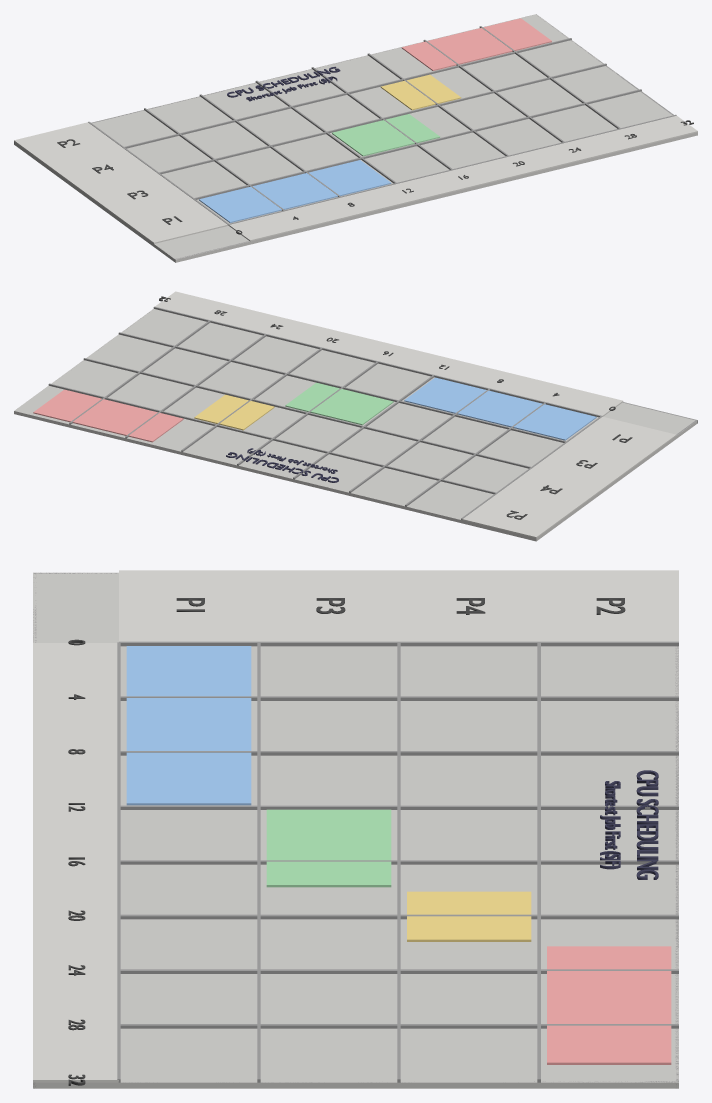
Rendered from Prop_GanttChart.fbx.
3 views of the same model, one above another, from view 1: azimuth 30°, elevation 25°; view 2: azimuth 150°, elevation 25°; view 3: azimuth 270°, elevation 25° (orthographic). The views are drawn at different scales.
Visible parts, largest first — view 1: Prop_GanttChart; view 2: Prop_GanttChart; view 3: Prop_GanttChart.
Boxes of the visible parts, left/top/right/bottom form: Prop_GanttChart: left=14, top=14, right=697, bottom=262; Prop_GanttChart: left=14, top=291, right=697, bottom=541; Prop_GanttChart: left=33, top=570, right=678, bottom=1088.
Size of the model in its own units: 1.41 by 0.0125 by 0.75.
